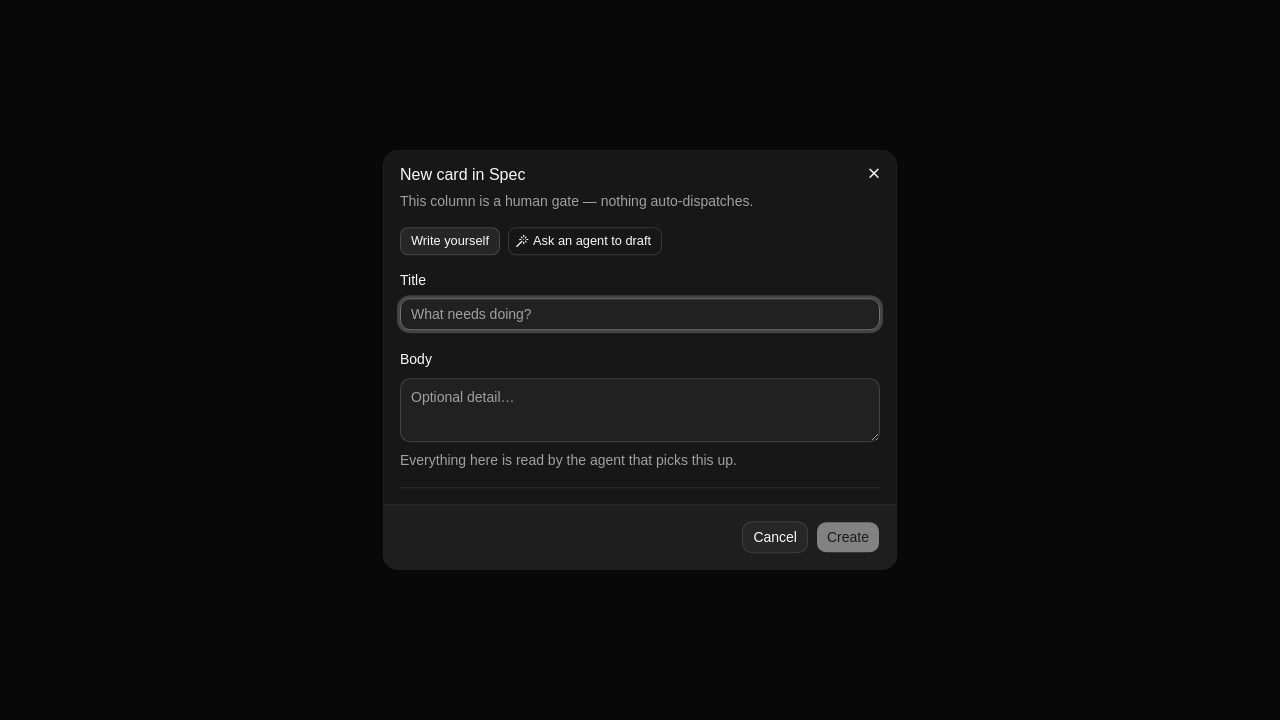
Test: NewTicketDialog — draft mode › shows a note when no idle agents
What coordinates should you click on to do the following:
click the radio button "Ask an agent to draft"
I would click on:
 (585, 241)
Its box is [508,227,662,255].
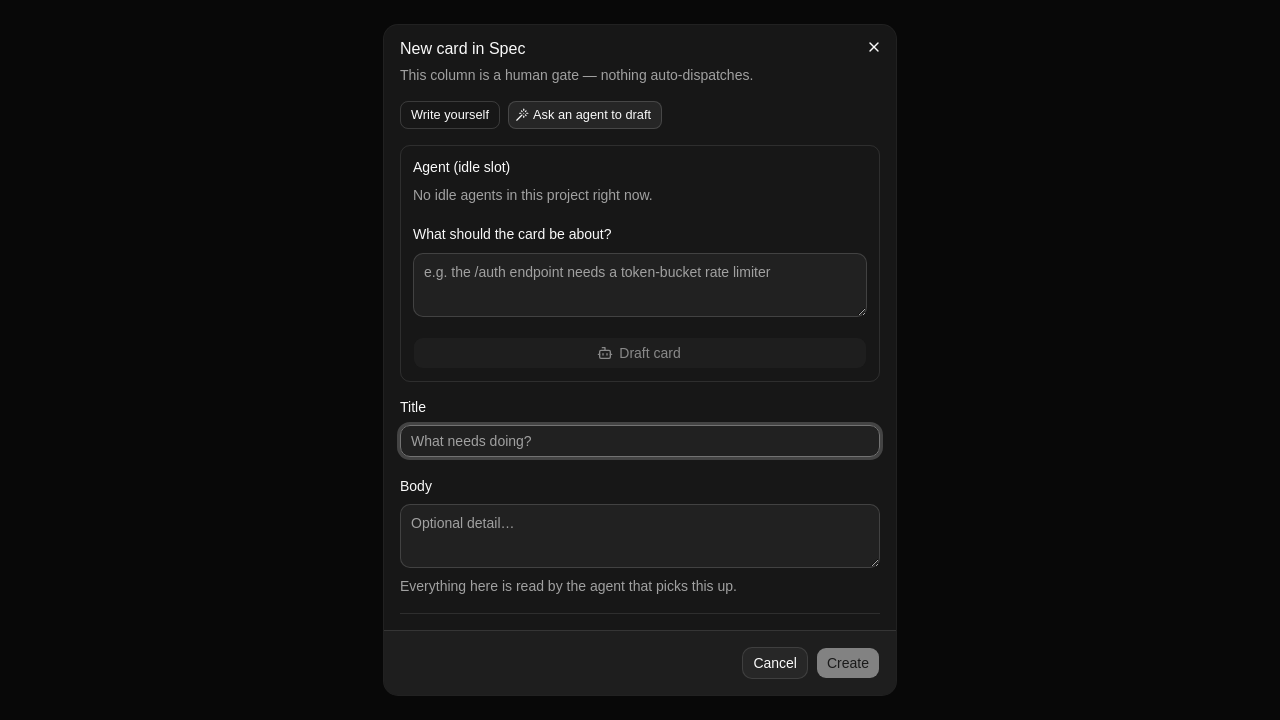
Now the text "No idle agents in this project right now." is shown, box [413,187,653,203]
